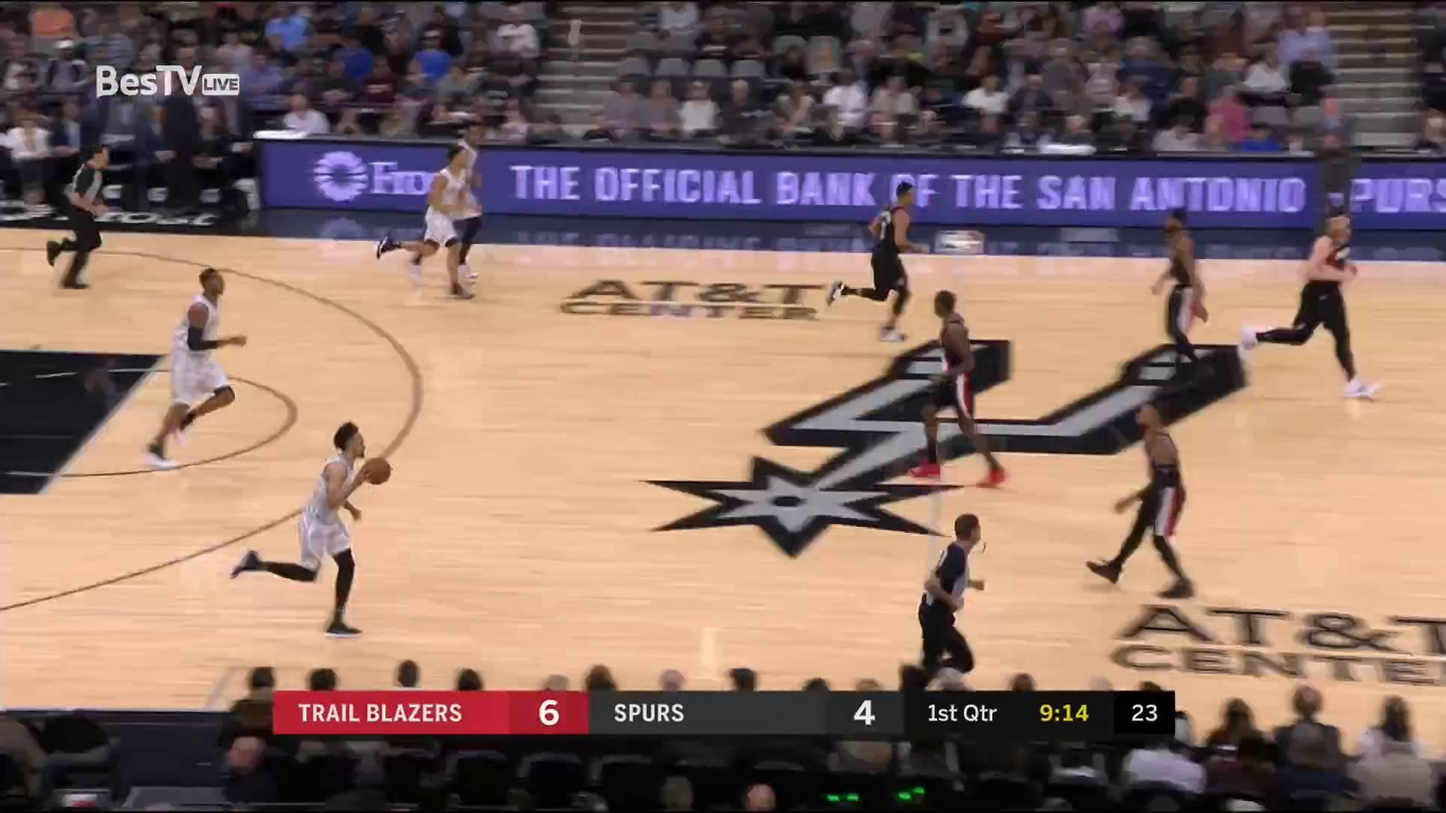basketball: (360, 455, 393, 486)
